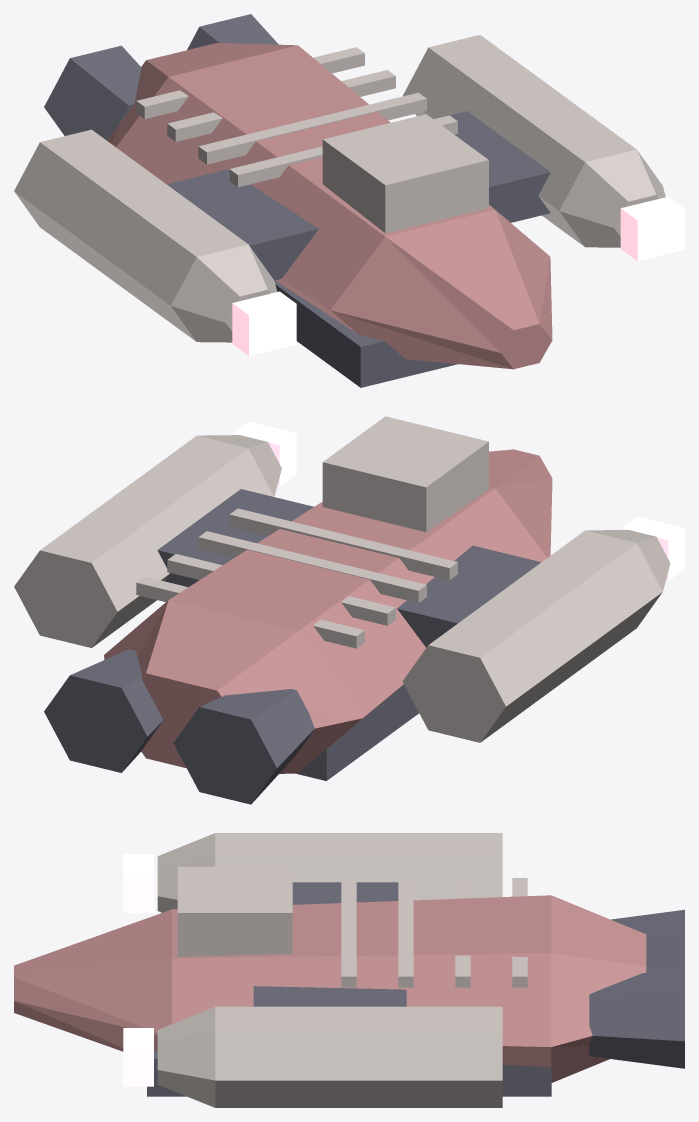
3 views of the same model, one above another, from view 1: azimuth 30°, elevation 25°; view 2: azimuth 150°, elevation 25°; view 3: azimuth 270°, elevation 25° (orthographic). The views are drawn at different scales.
Size of the model in its own units: 5.38 by 1.88 by 6.93.
